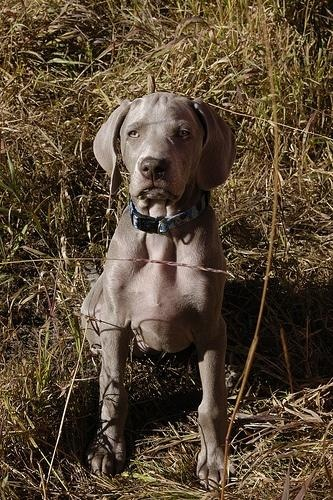dog: (81, 92, 238, 486)
